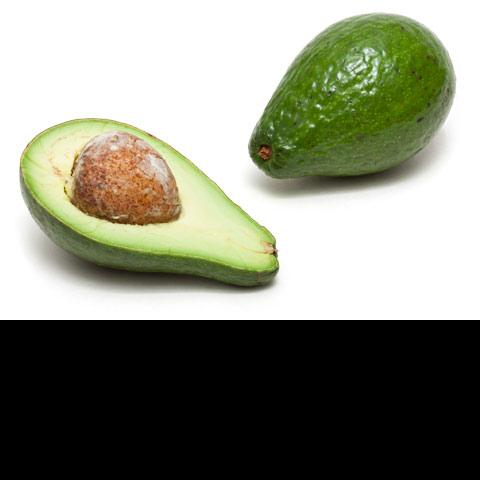unripe: (248, 13, 457, 179)
